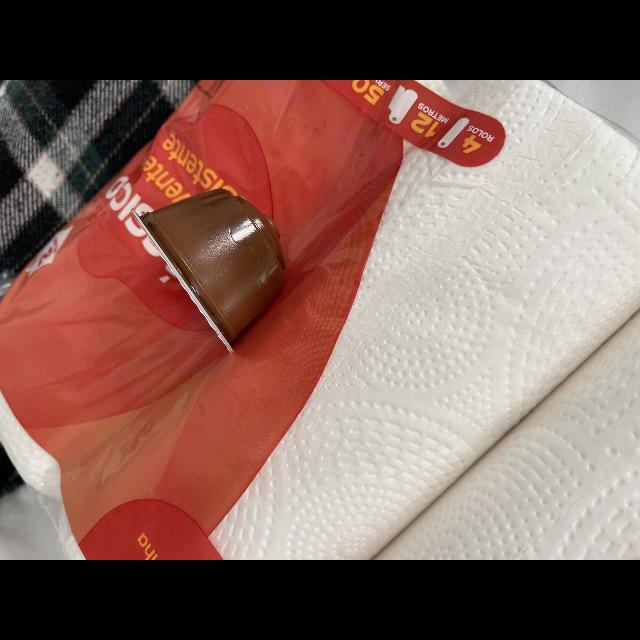intact_capsule: (136, 188, 310, 362)
